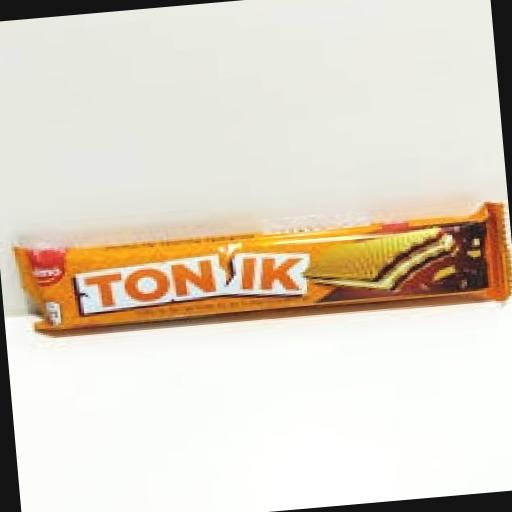tonik: (12, 154, 512, 388)
